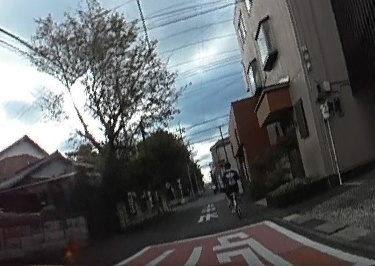person: (224, 161, 240, 209)
